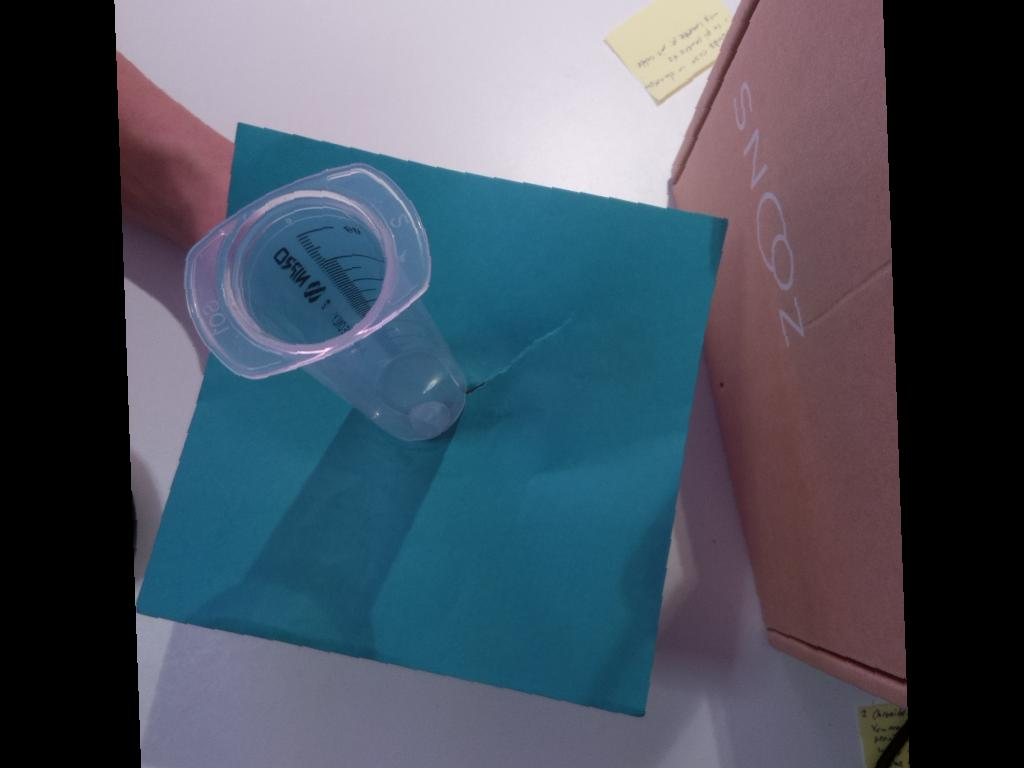clean: (183, 163, 435, 382)
